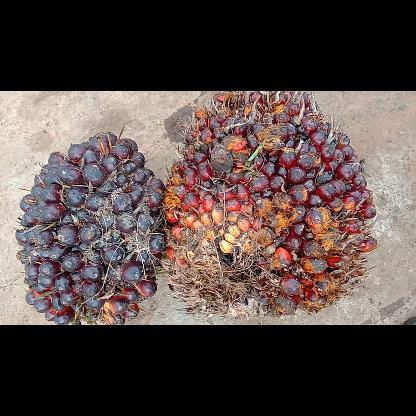TBS masak: (162, 90, 378, 317)
TBS mentah: (16, 132, 166, 324)
